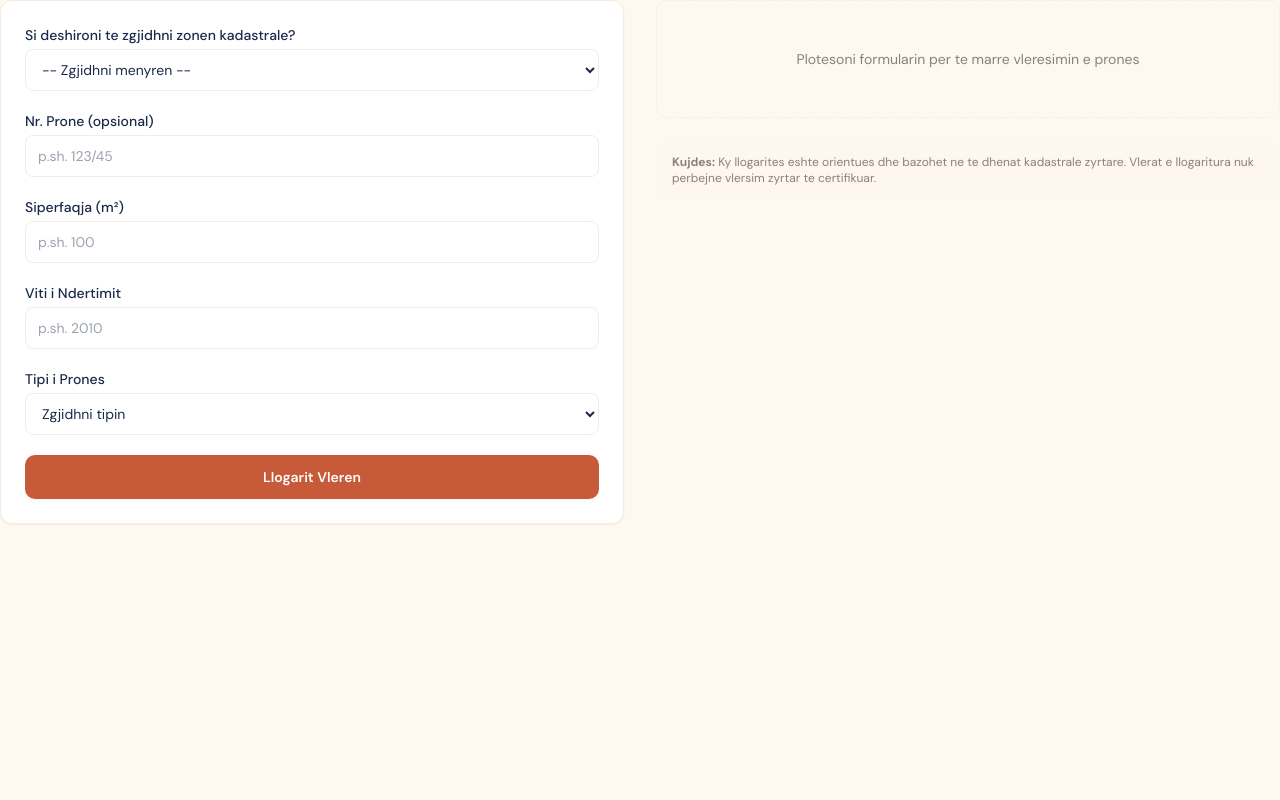
ValuationCalculator › shows manual input when 'Vendos Vleren' selected
The image size is (1280, 800).
Select "Vendos Vleren" in the dropdown labelled "Si deshironi te zgjidhni zonen kadastrale?" at {"x": 312, "y": 70}, box [25,49,599,91]
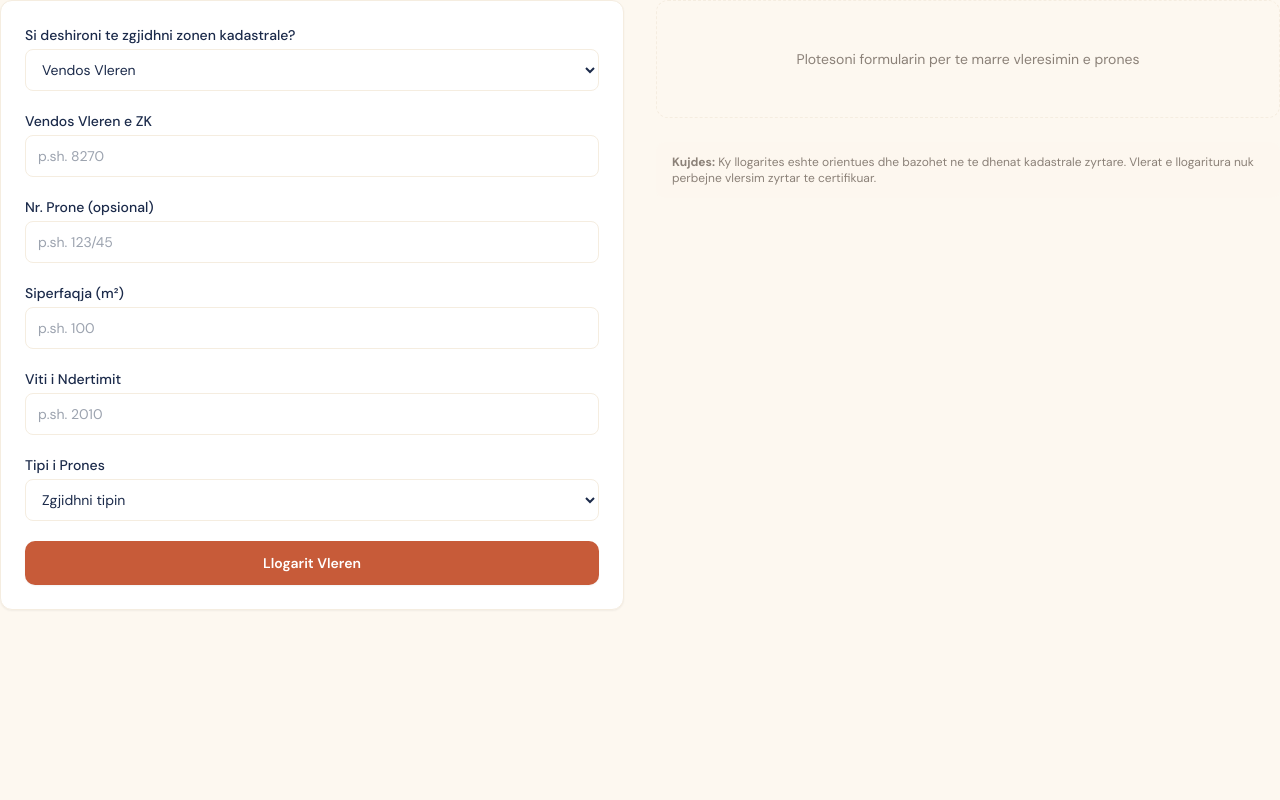
Result: the number field with placeholder "p.sh. 8270" is shown at [25,135,599,177]
